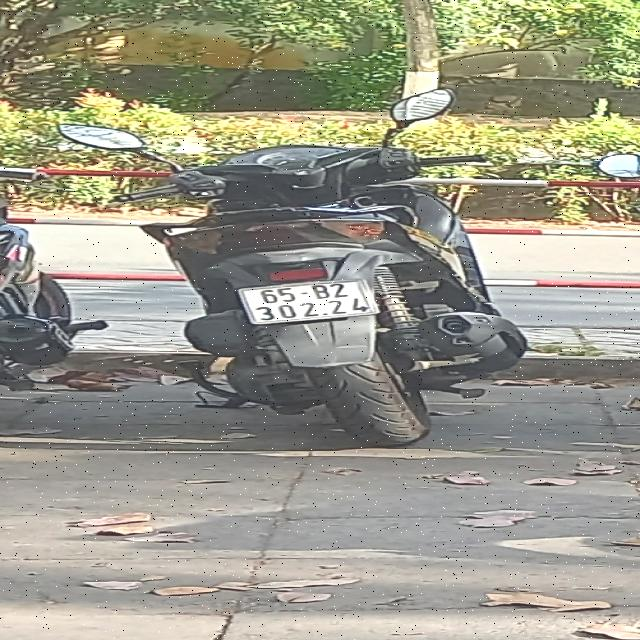0: (278, 304, 299, 319)
2: (299, 302, 321, 317), (326, 300, 348, 315), (329, 284, 349, 298)
3: (254, 306, 276, 322)
4: (351, 298, 373, 312)
5: (277, 287, 298, 302)
6: (260, 289, 279, 304)
B: (310, 284, 332, 299)
